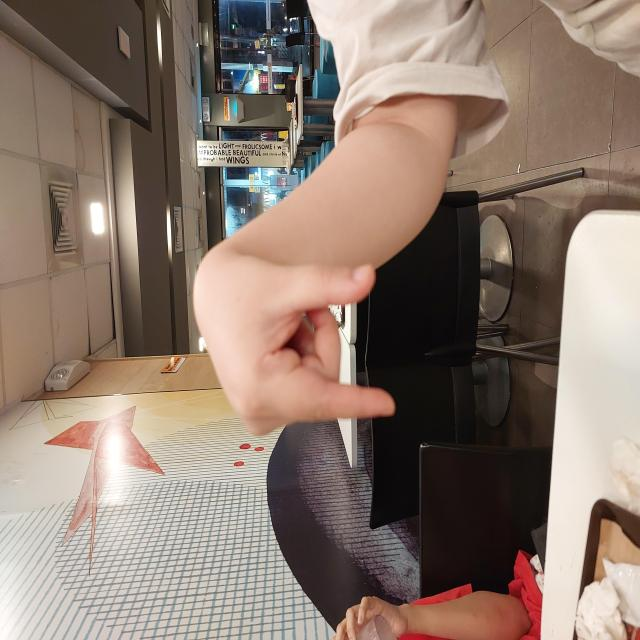Q: (202, 192, 384, 396)
